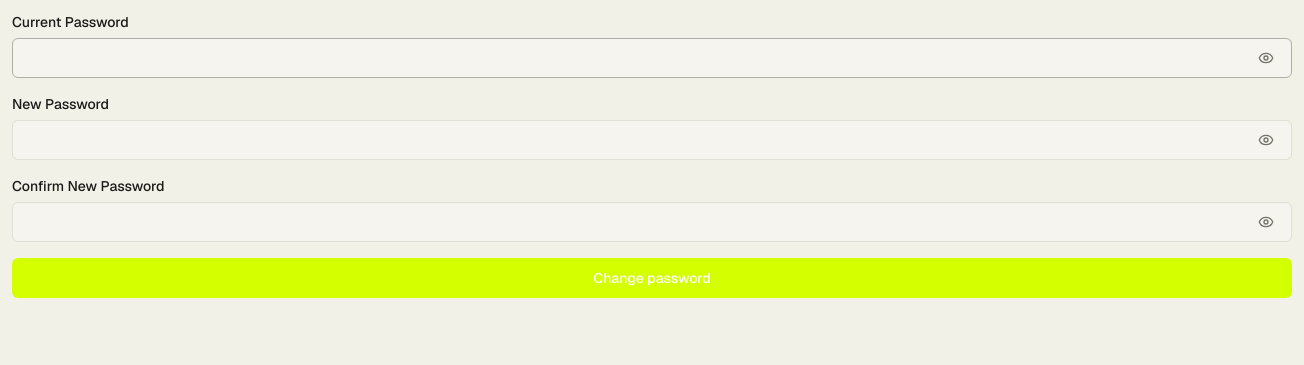
Scenario: ChangePasswordForm › blocks submit when confirm does not match
The image size is (1304, 365).
Type "OldPass1!" into the password field labelled "Current Password" at [652, 58], box [12, 38, 1292, 78]
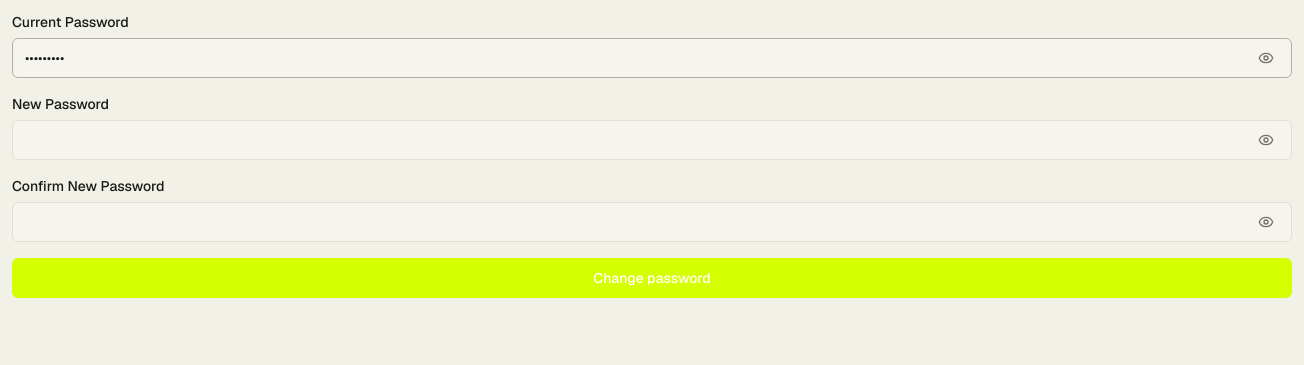
Type "Abcdefg1!" into the password field labelled "New Password" at [652, 140], box [12, 120, 1292, 160]
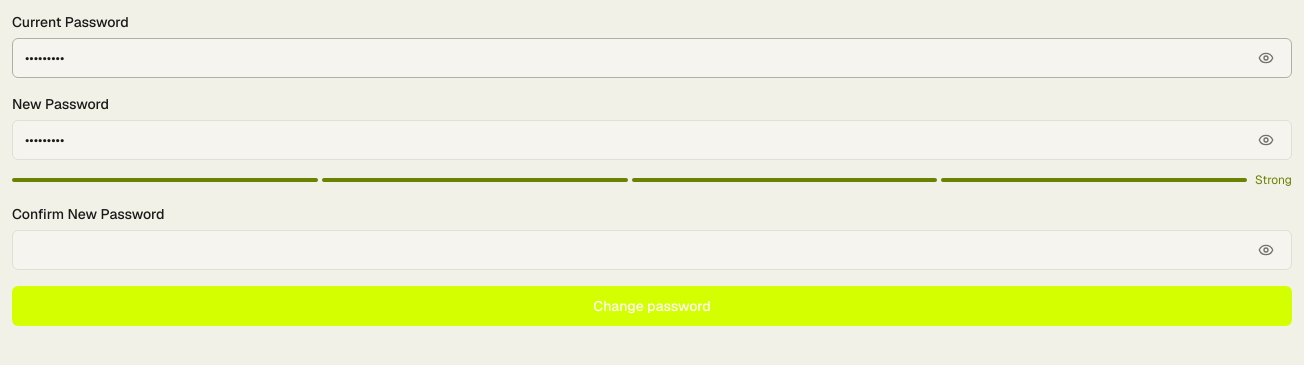
Type "Different1!" into the password field labelled "Confirm New Password" at [652, 250], box [12, 230, 1292, 270]
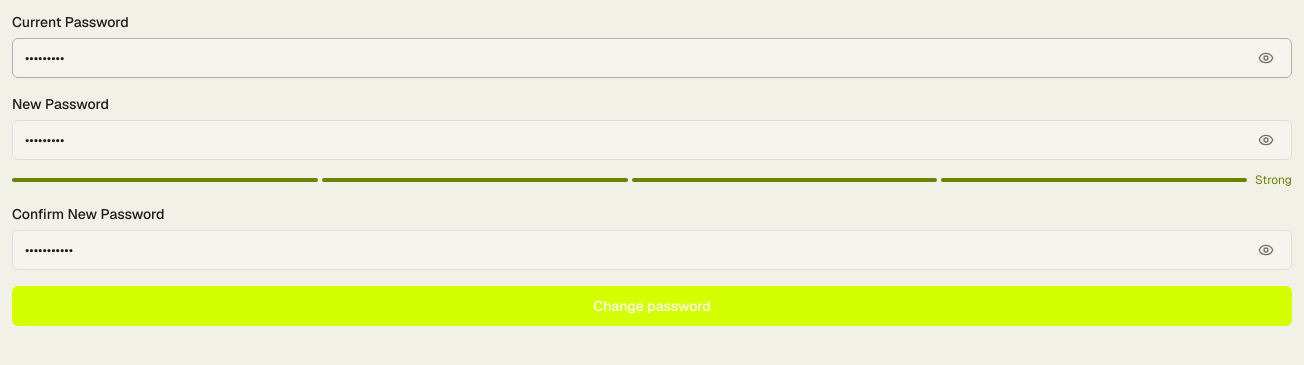
Click the button "Change password" at [652, 306], box [12, 286, 1292, 326]
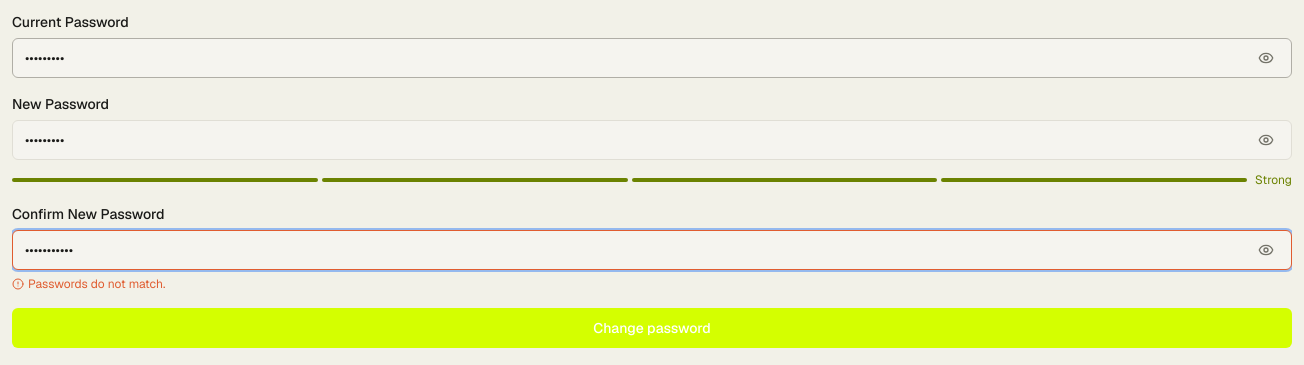
Now the text "Passwords do not match." is shown, box [12, 276, 165, 292]
